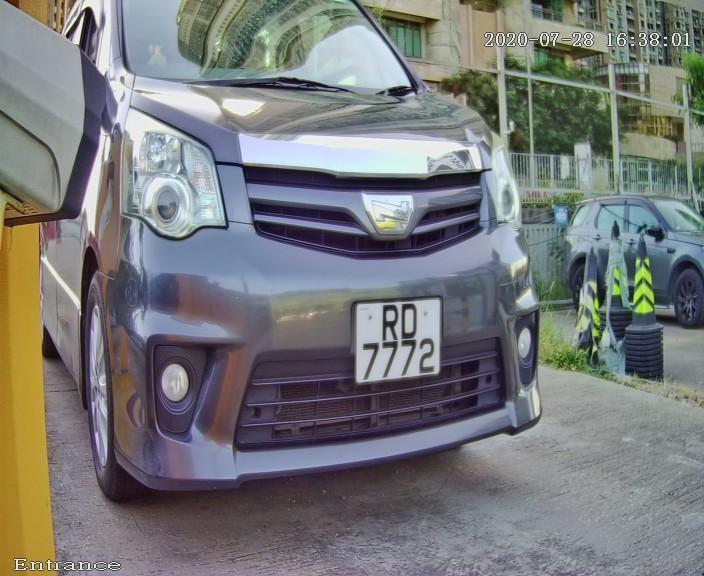privatecar: (10, 8, 632, 535)
